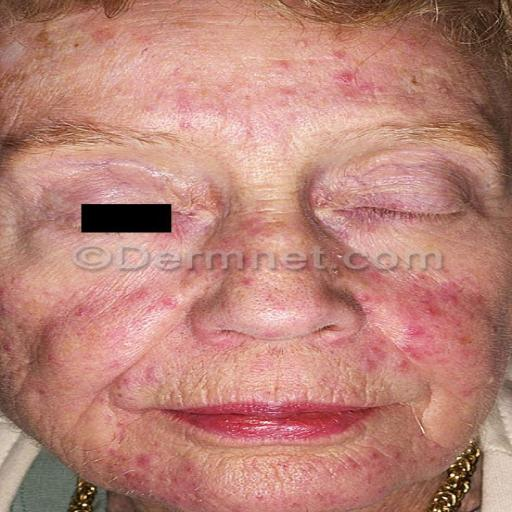Skin_Lesion: (401, 272, 464, 322), (23, 330, 62, 387), (258, 63, 296, 119), (126, 282, 191, 314), (334, 66, 381, 107), (12, 208, 45, 266), (355, 449, 397, 480), (0, 276, 17, 346), (158, 79, 194, 112), (367, 348, 418, 371), (59, 300, 99, 323), (274, 454, 298, 492), (237, 274, 272, 299), (498, 412, 512, 462), (237, 216, 269, 236), (136, 452, 150, 468)
